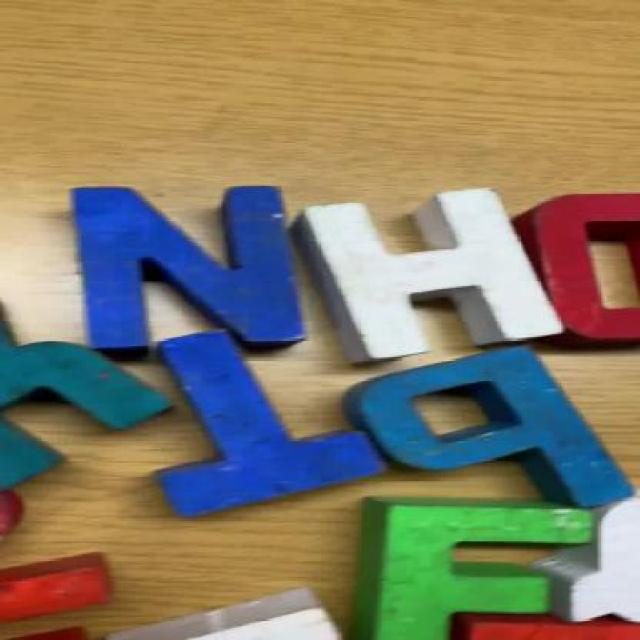F: (350, 492, 601, 639)
H: (308, 192, 566, 368)
N: (48, 181, 304, 362)
